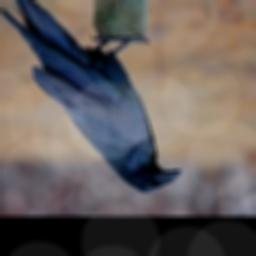Crow: (1, 0, 185, 196)
